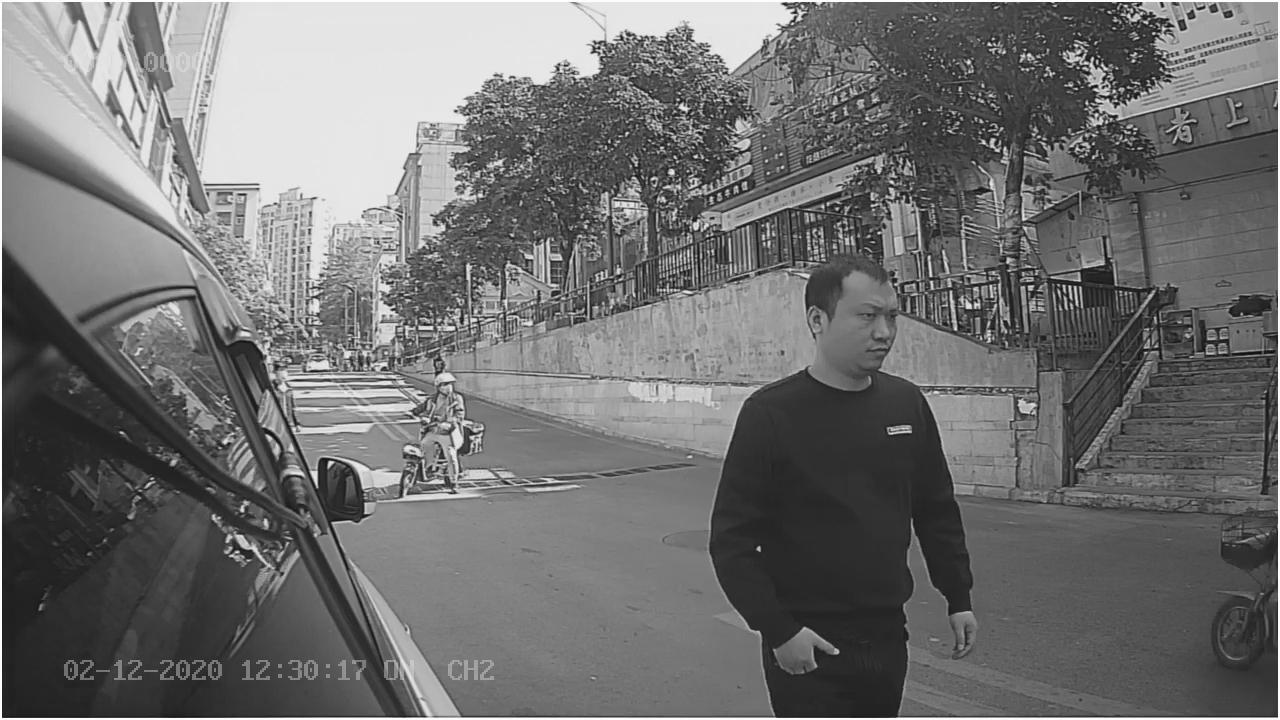person: (702, 249, 1005, 674)
